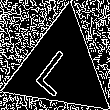L_NE: (33, 38, 87, 97)
